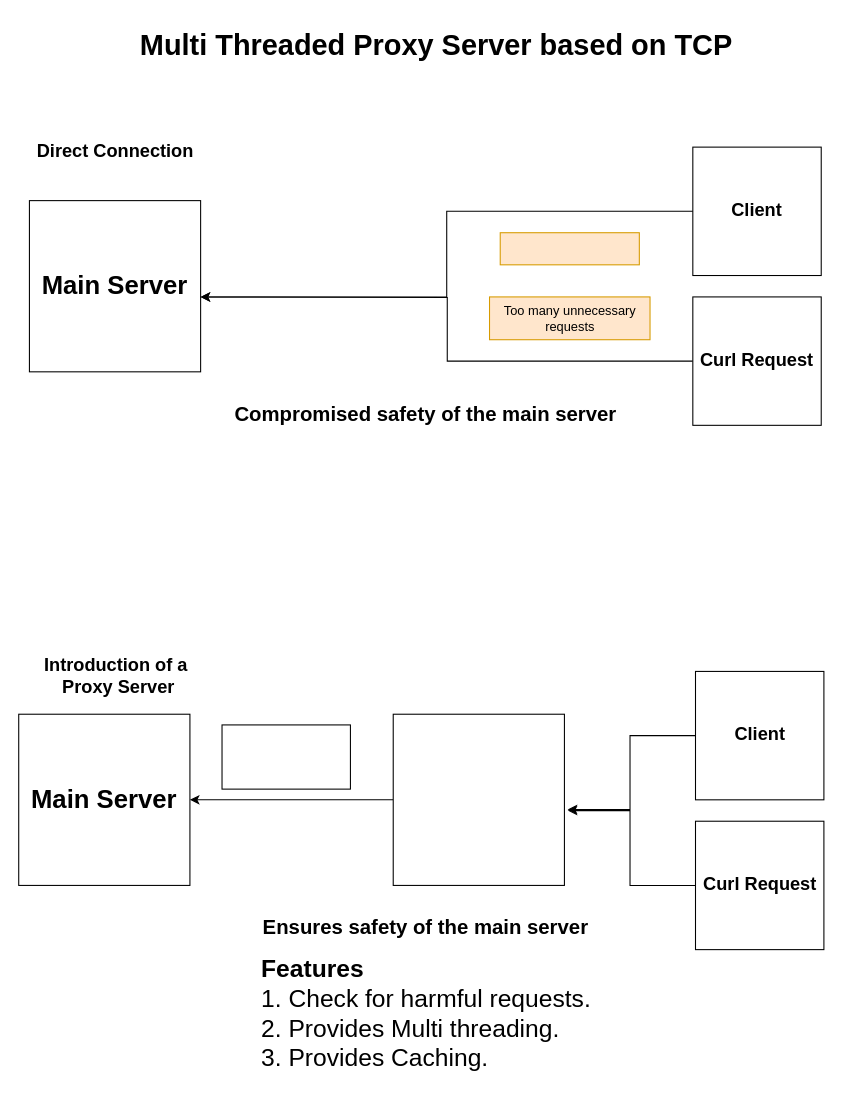
Image size: 843x1096. Some labels were removed from this diagram. Here are the shapes that lost their labels. From the top down, the centre of each, then its label:
pixel 569 248: Malicious programs
pixel 285 756: Filtered Requests
pixel 478 799: Proxy Server
